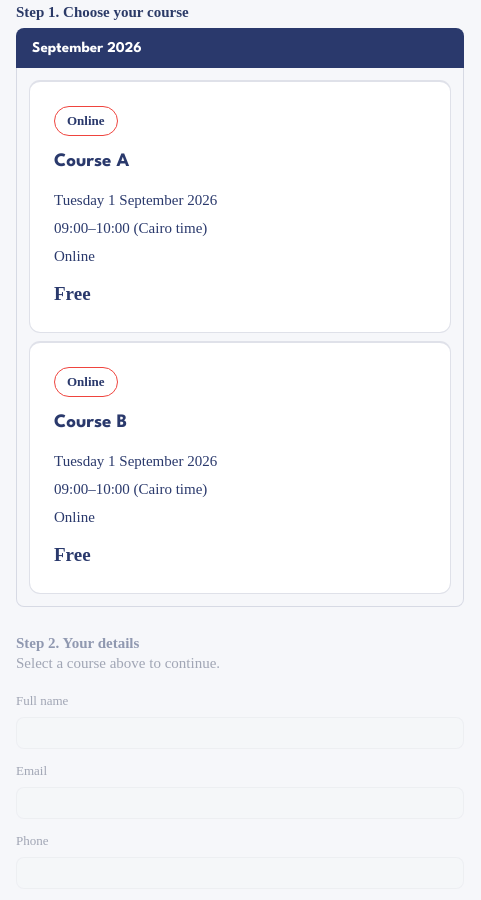
RegistrationExperience — step 1 / step 2 flow › selecting a course collapses step 1 into a summary panel and activates step 2
The image size is (481, 900).
Click the text "Course A": (92, 162) [54, 153, 129, 170]
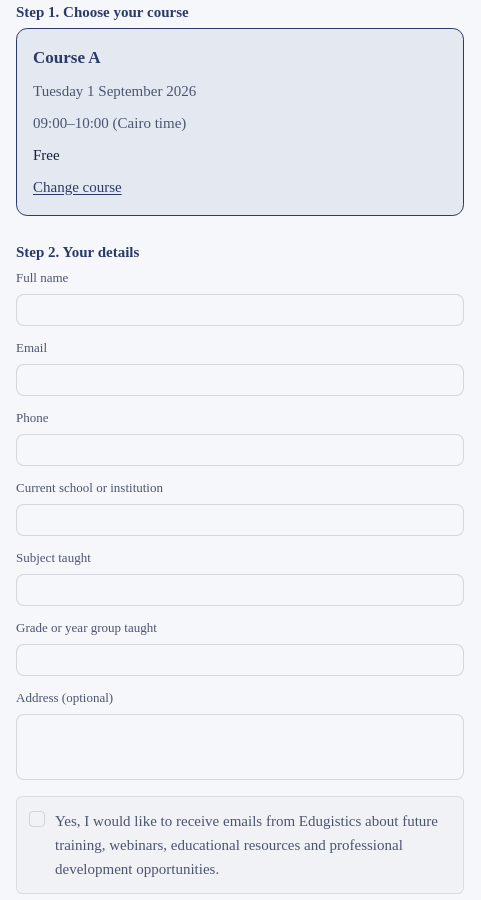
Check: the text "Select a course above to continue." is gone
Check: the button "Change course" is shown, box [33, 175, 122, 199]
Check: the text "Course B" is gone
